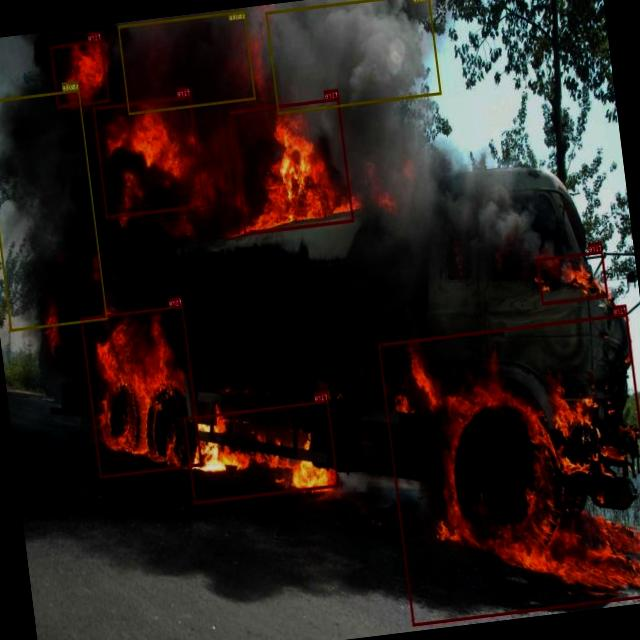fire: (378, 312, 640, 625), (80, 304, 202, 478), (230, 98, 354, 234), (184, 399, 338, 503), (92, 94, 204, 218), (50, 40, 109, 108), (536, 250, 608, 304)
smoke: (0, 88, 108, 330), (265, 0, 441, 113), (118, 9, 256, 114)
